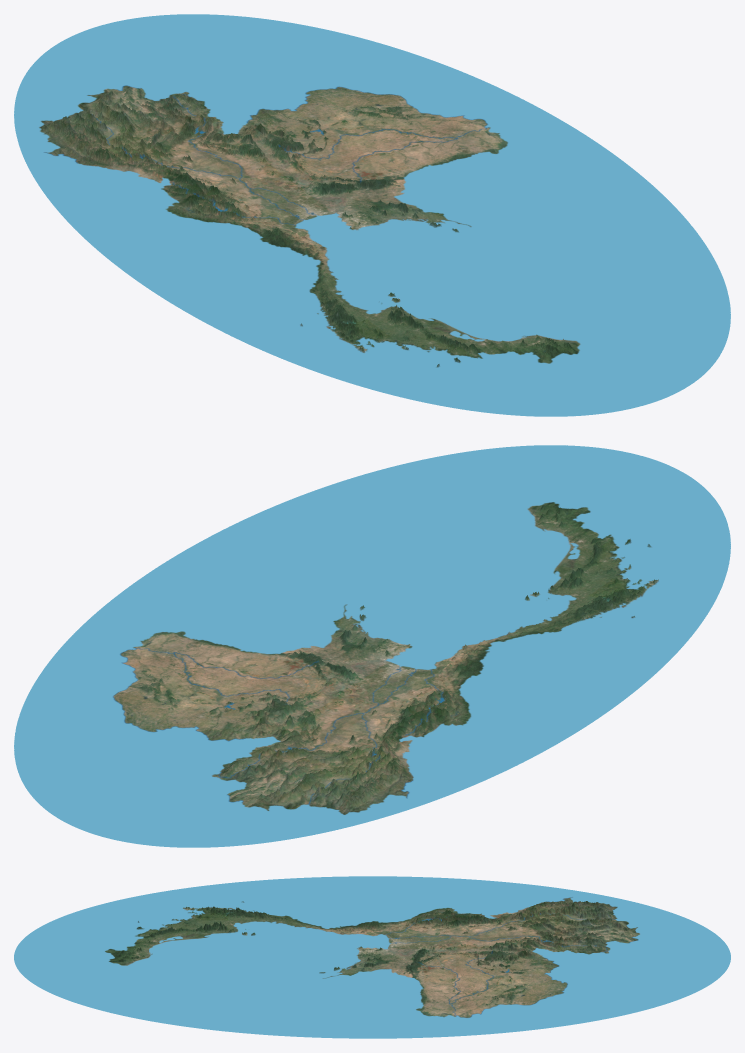
File: THA-previa-terrain.glb
3 renders of one model, top to bottom at view 1: azimuth 30°, elevation 25°; view 2: azimuth 150°, elevation 25°; view 3: azimuth 270°, elevation 25°, orthographic. The views are drawn at different scales.
Visible parts, largest first — view 1: Tailândia; view 2: Tailândia; view 3: Tailândia.
Boxes of the visible parts, left/top/right/bottom form: Tailândia: left=14, top=14, right=730, bottom=416; Tailândia: left=14, top=445, right=730, bottom=847; Tailândia: left=14, top=876, right=730, bottom=1038.
Bounding box in the file's own units: 1.26 × 0.0398 × 2.35.
Materials: 1 (1 with a texture image).
